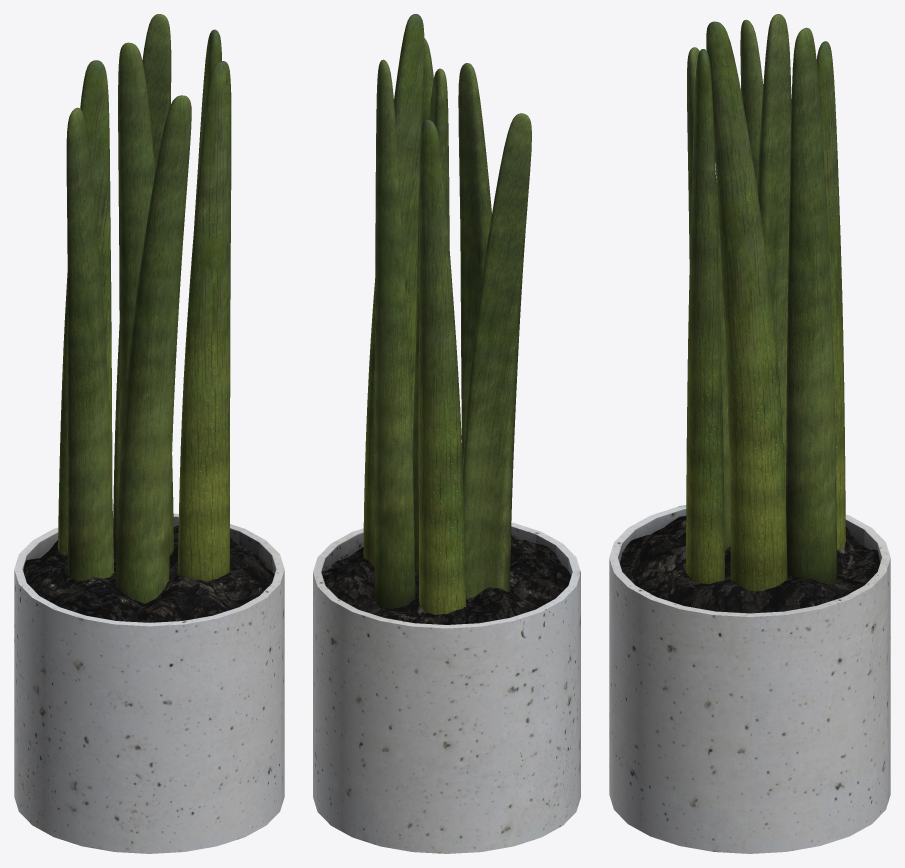
File: Sansewieria_v002.DAE
3 views of the same model, side by side, from view 1: azimuth 30°, elevation 25°; view 2: azimuth 150°, elevation 25°; view 3: azimuth 270°, elevation 25° (orthographic). The views are drawn at different scales.
Parts seen in each view (by area): view 1: Sansewieria; view 2: Sansewieria; view 3: Sansewieria.
Boxes of the visible parts, <box> form: Sansewieria: <box>14,14,284,853</box>; Sansewieria: <box>313,14,580,853</box>; Sansewieria: <box>609,14,890,853</box>.
Size of the model in its own units: 147 by 459 by 147.
